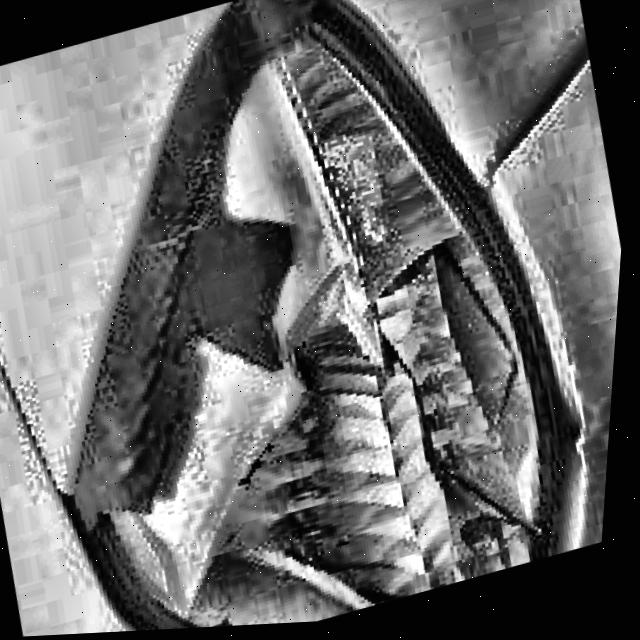tail_lamp: (112, 292, 545, 632), (197, 26, 448, 329)
